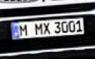0: (61, 20, 69, 33), (68, 20, 76, 32)
1: (75, 20, 83, 33)
3: (53, 21, 61, 34)
M: (34, 23, 44, 36), (19, 24, 28, 37)
X: (43, 21, 51, 34)
